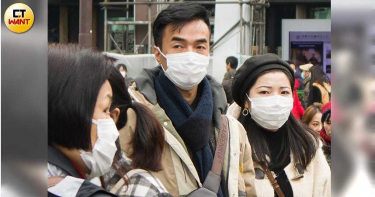Mask: (81, 79, 124, 178), (160, 19, 208, 88), (246, 69, 293, 130)
